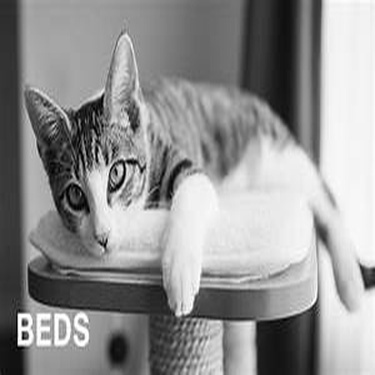cat: (28, 28, 368, 317)
